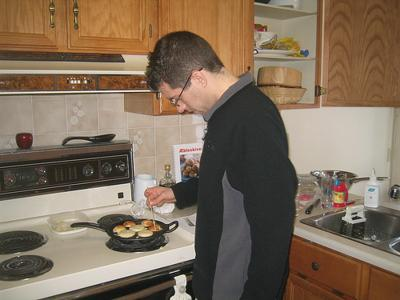person: (146, 33, 301, 300)
